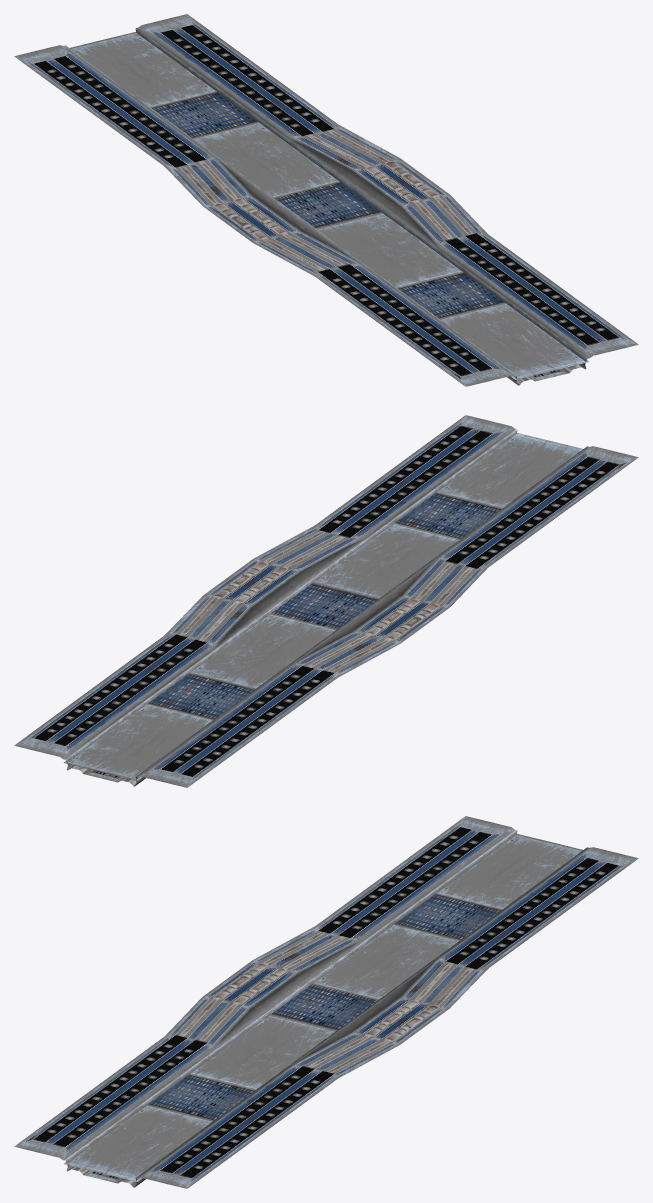
File: floor.obj
3 renders of one model, top to bottom at view 1: azimuth 30°, elevation 25°; view 2: azimuth 150°, elevation 25°; view 3: azimuth 330°, elevation 25°, orthographic.
Parts seen in each view (by area): view 1: polySurface1204; view 2: polySurface1204; view 3: polySurface1204.
Part boxes in pixels (bbox=[...]): polySurface1204: bbox=[14, 14, 638, 386]; polySurface1204: bbox=[14, 415, 638, 787]; polySurface1204: bbox=[14, 816, 638, 1188].
Bounding box in the file's own units: 35.67 × 2.18 × 141.
Materials: 1 (1 with a texture image).
